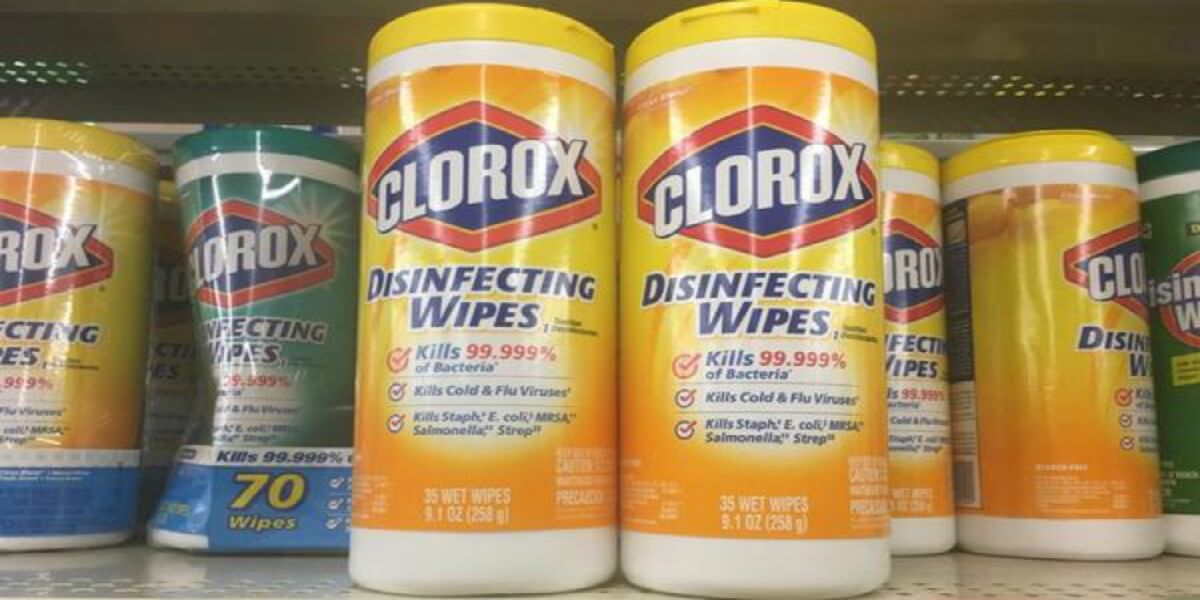Wipes: (606, 2, 908, 600), (351, 3, 628, 596), (930, 122, 1171, 566), (146, 110, 359, 570), (1, 104, 159, 565), (856, 131, 961, 559), (1131, 125, 1200, 556)
